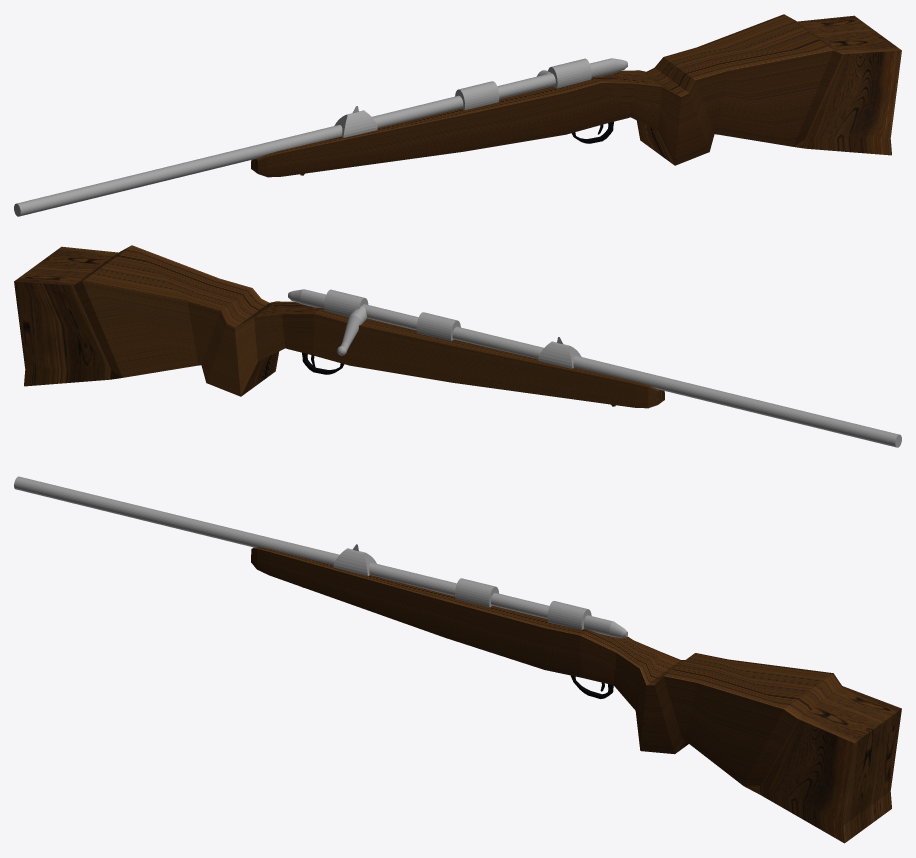
File: rifle.fbx
The picture shows the model from 3 angles, top to bottom: view 1: azimuth 30°, elevation 25°; view 2: azimuth 150°, elevation 25°; view 3: azimuth 330°, elevation 25°; orthographic projection.
Parts seen in each view (by area): view 1: Cube.002; view 2: Cube.002; view 3: Cube.002.
Boxes of the visible parts, x1,y1,x2,y2 form: Cube.002: (14, 14, 901, 216); Cube.002: (14, 245, 901, 447); Cube.002: (14, 476, 901, 843).
Size of the model in its own units: 459 by 79.97 by 45.75.
4 materials, 1 textured.
